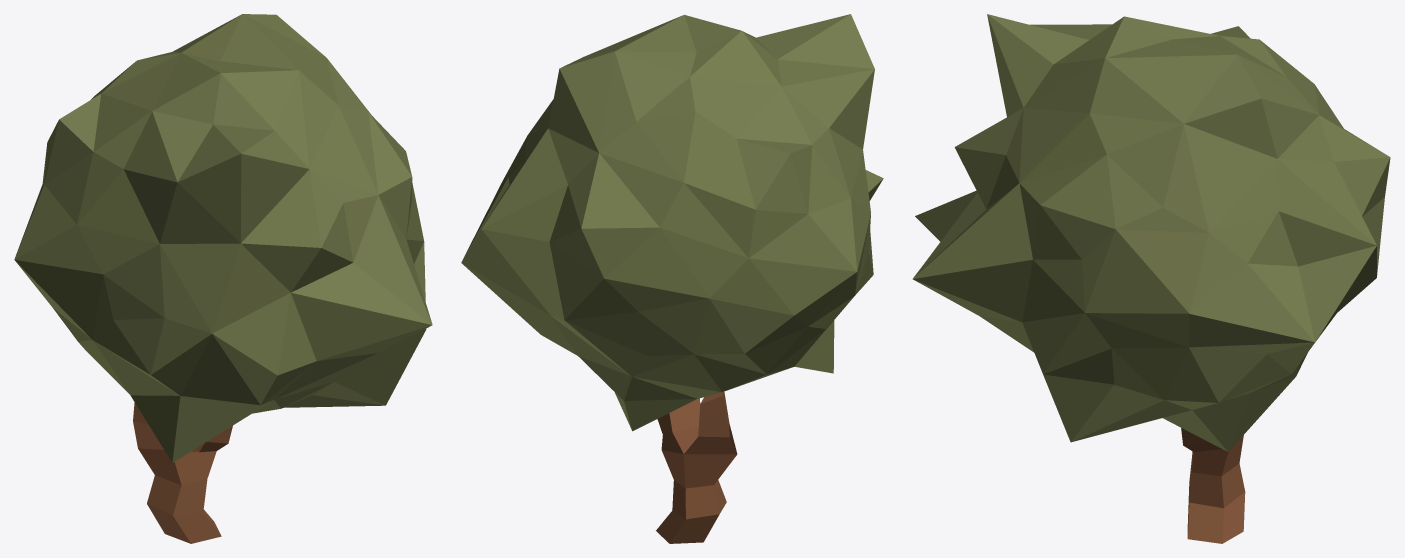
Rendered from Tree_02.fbx.
The picture shows the model from 3 angles, left to right: view 1: azimuth 30°, elevation 25°; view 2: azimuth 150°, elevation 25°; view 3: azimuth 270°, elevation 25°; orthographic projection. The views are drawn at different scales.
Visible parts, largest first — view 1: Icosphere.014, Cylinder.001; view 2: Icosphere.014, Cylinder.001; view 3: Icosphere.014, Cylinder.001.
Boxes of the visible parts, <box> form: Icosphere.014: <box>14,14,432,462</box>; Cylinder.001: <box>133,402,232,543</box>; Icosphere.014: <box>461,14,883,431</box>; Cylinder.001: <box>656,391,737,543</box>; Icosphere.014: <box>912,14,1390,451</box>; Cylinder.001: <box>1181,428,1245,543</box>.
Bounding box in the file's own units: 235 × 292 × 250.
